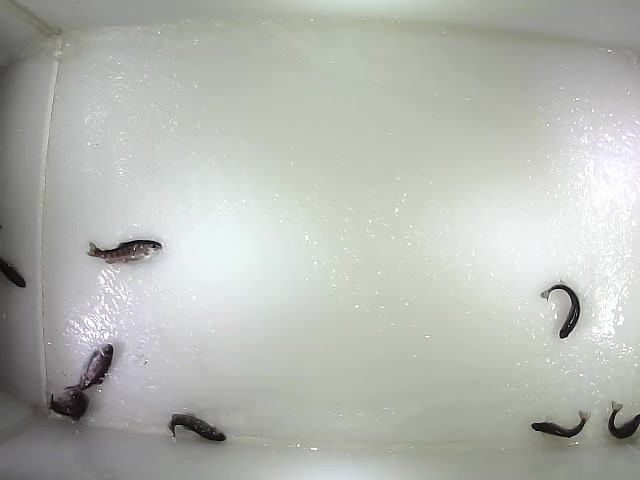fish: (64, 343, 114, 397), (539, 279, 581, 340), (86, 238, 165, 265), (530, 409, 593, 440), (167, 412, 228, 443), (47, 388, 90, 422), (607, 400, 640, 441)
